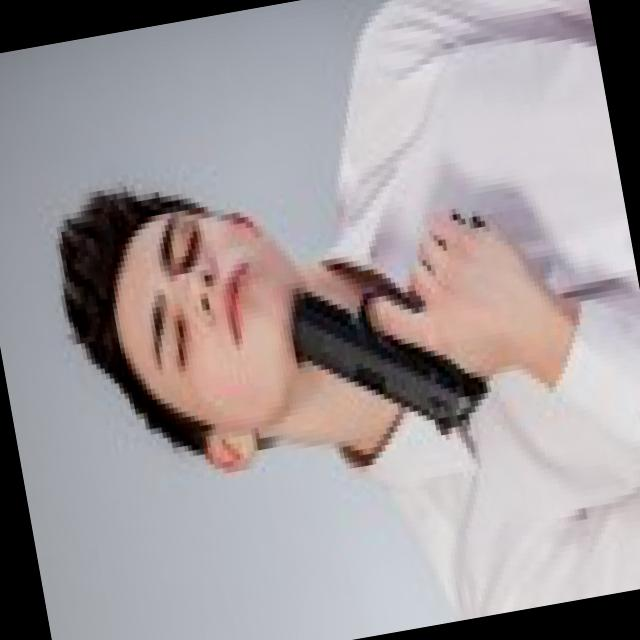handgun: (264, 202, 529, 469)
